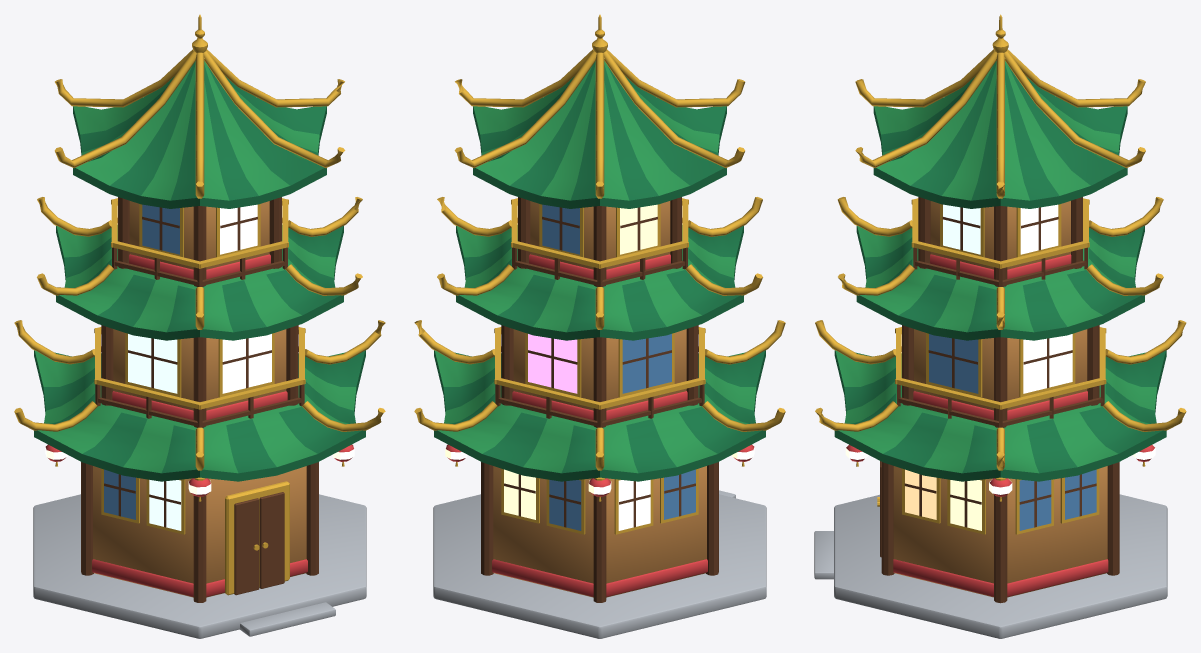
Rendered from pagode_hexagonal_verde.glb.
3 views of the same model, side by side, from view 1: azimuth 30°, elevation 25°; view 2: azimuth 150°, elevation 25°; view 3: azimuth 270°, elevation 25° (orthographic).
Visible parts, largest first — view 1: pagode_hexagonal_verde; view 2: pagode_hexagonal_verde; view 3: pagode_hexagonal_verde.
Boxes of the visible parts, x1,y1,x2,y2 form: pagode_hexagonal_verde: [14, 14, 385, 638]; pagode_hexagonal_verde: [414, 14, 785, 638]; pagode_hexagonal_verde: [814, 14, 1186, 638].
Size of the model in its own units: 10.19 by 14.36 by 8.89.
7 materials, 1 textured.
